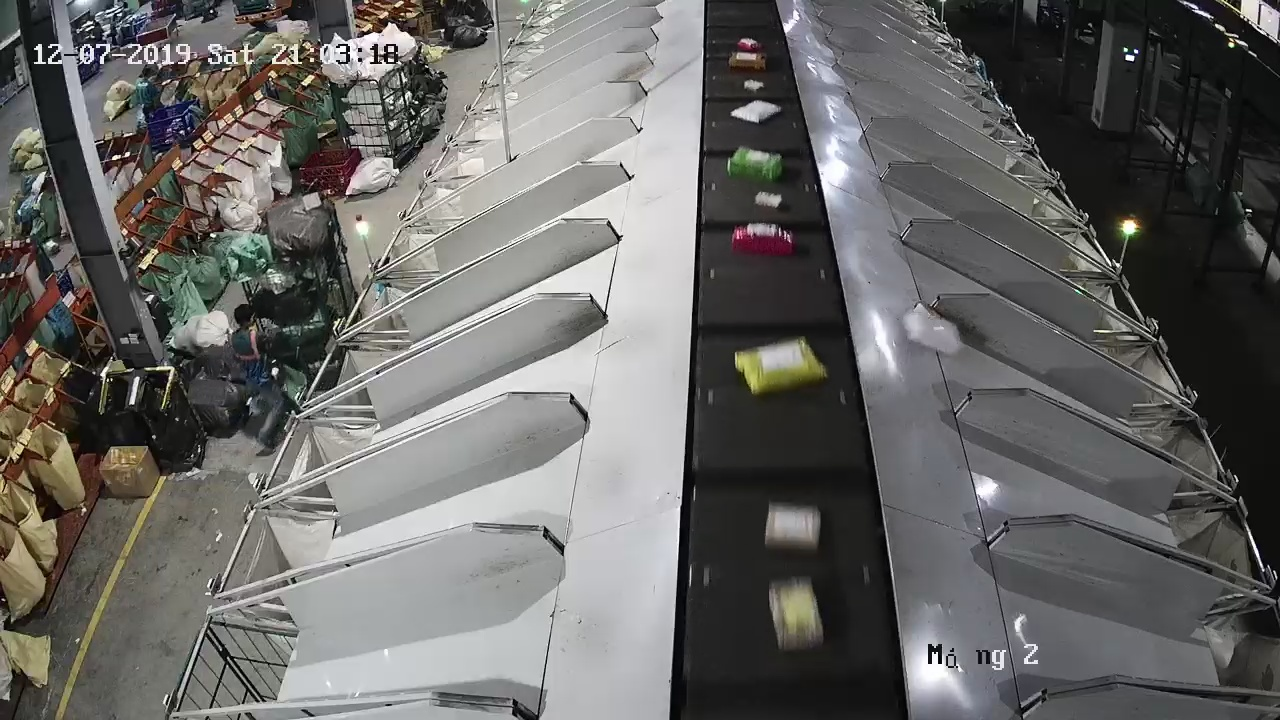parcel: (901, 311, 963, 357)
